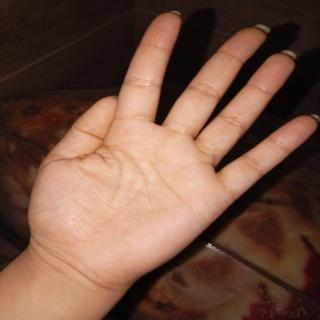SHEEN: (12, 0, 317, 296)
